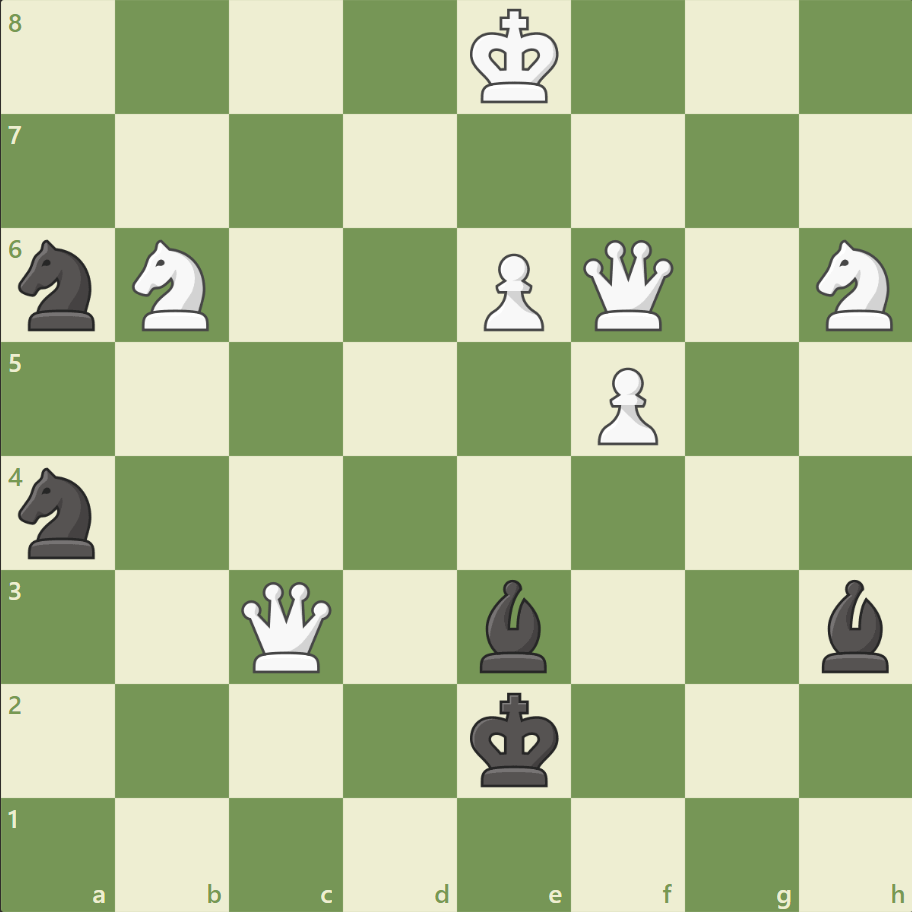K: (465, 4, 565, 112)
N: (124, 234, 222, 337), (806, 234, 903, 337)
P: (474, 246, 549, 337), (588, 359, 662, 450)
Q: (237, 576, 336, 676), (578, 236, 677, 335)
b: (471, 574, 555, 676), (812, 574, 896, 676)
k: (465, 685, 565, 793)
n: (11, 234, 108, 337), (11, 461, 108, 564)
